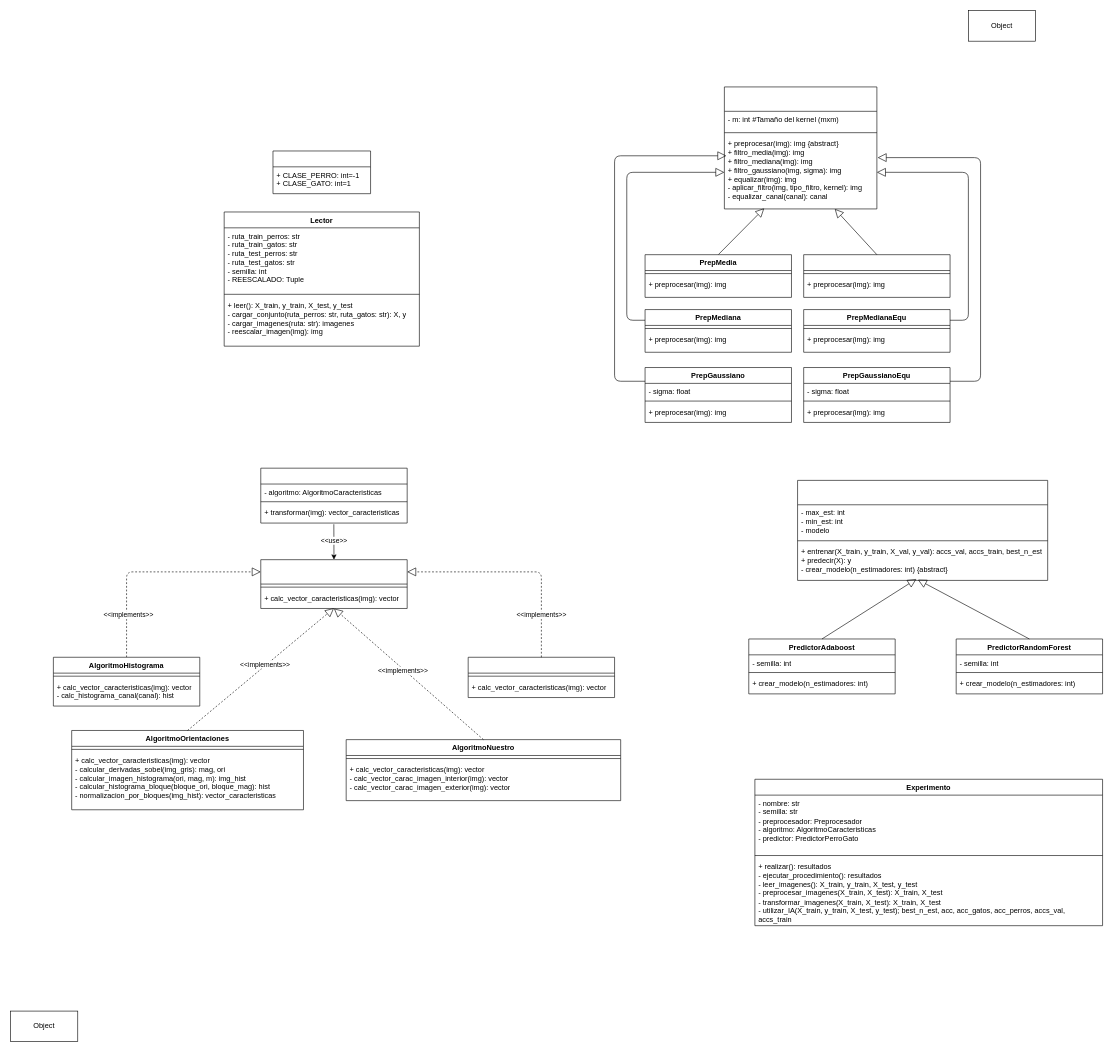
The diagram is 1113 pixels wide and 1052 high, and some of its shapes have lost their labels. The box of each missing label's shape, as (x1, y1, x2, y2) in pixels:
<<abstract>> PredictorPerroGato: (797, 480, 1048, 580)
<<abstract>> Preprocesador: (724, 86, 877, 209)
<<interface>> AlgoritmoCaracteristicas: (260, 559, 407, 608)
AlgoritmoTexturas: (468, 657, 615, 698)
ClasePerroGato: (272, 150, 371, 194)
PrepMediaEqu: (803, 254, 950, 297)
TransformadorCaracteristicas: (260, 468, 407, 523)
